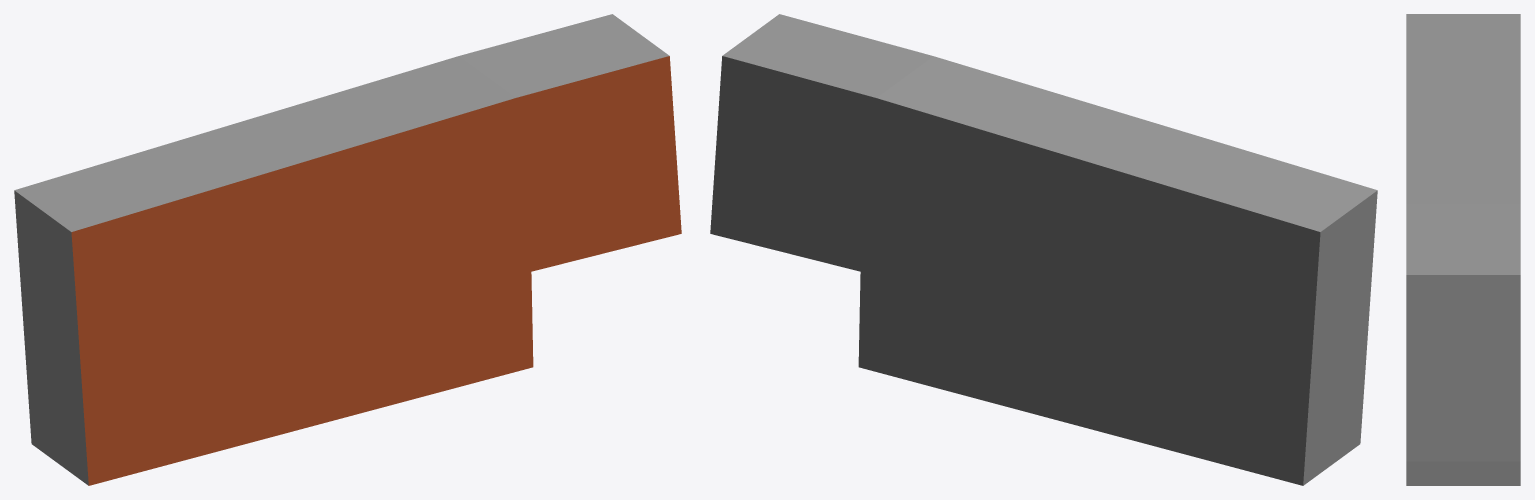
The model's file is construction_1752_assumed_A_Casa_h6m.obj.
The picture shows the model from 3 angles, left to right: view 1: azimuth 30°, elevation 25°; view 2: azimuth 150°, elevation 25°; view 3: azimuth 270°, elevation 25°; orthographic projection.
Visible parts, largest first — view 1: construction_1752_assumed_A_Casa; view 2: construction_1752_assumed_A_Casa; view 3: construction_1752_assumed_A_Casa.
Boxes of the visible parts, x1,y1,x2,y2 form: construction_1752_assumed_A_Casa: [14, 14, 681, 485]; construction_1752_assumed_A_Casa: [710, 14, 1377, 485]; construction_1752_assumed_A_Casa: [1406, 14, 1520, 485].
Bounding box in the file's own units: 36.92 × 16.67 × 6.
